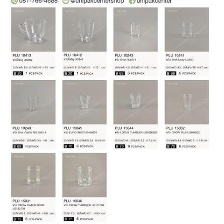glass: (16, 16, 49, 47), (69, 15, 98, 43), (75, 163, 95, 189), (179, 19, 196, 40), (24, 163, 40, 185), (126, 91, 144, 109), (180, 91, 195, 110), (25, 94, 41, 111), (127, 21, 142, 38), (77, 93, 92, 109)
